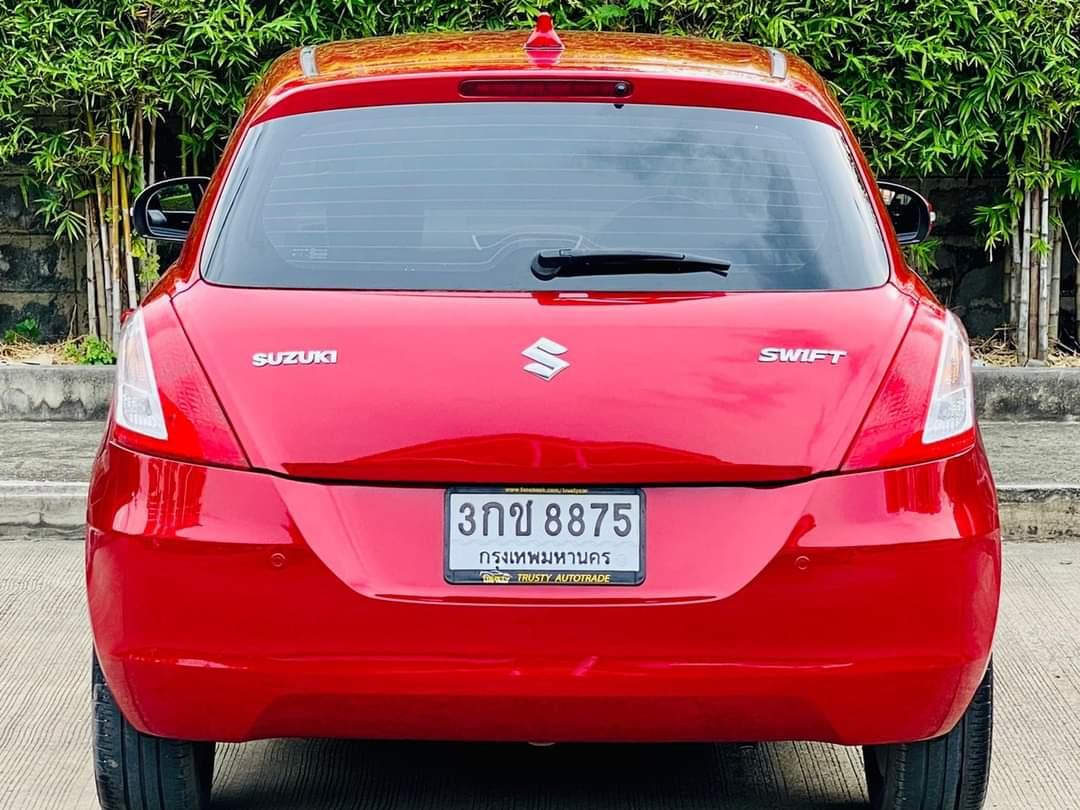license-plate: (444, 479, 649, 588)
